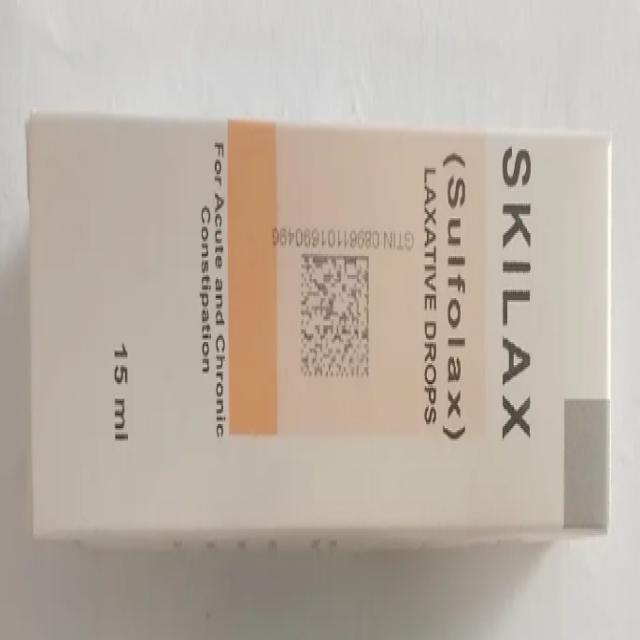drug-name: (500, 137, 537, 444)
